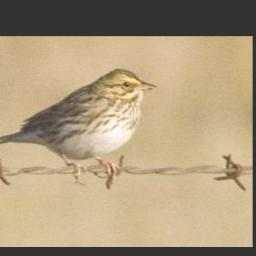Sparrow: (0, 64, 160, 184)
